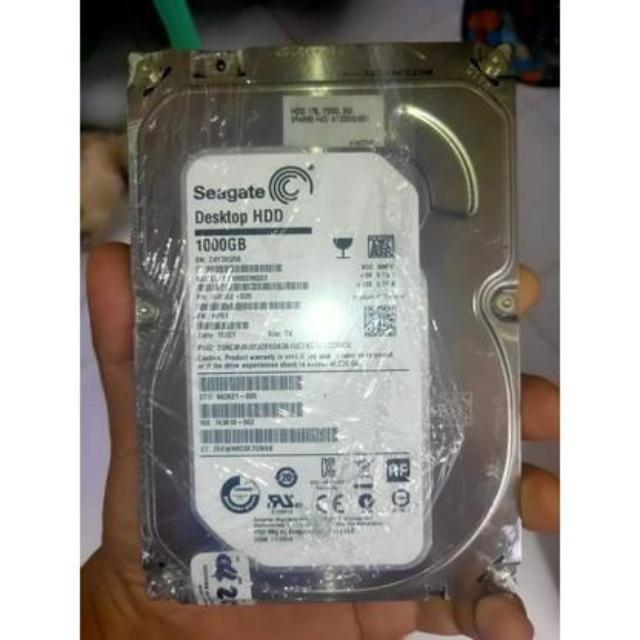DISK: (126, 39, 524, 606)
